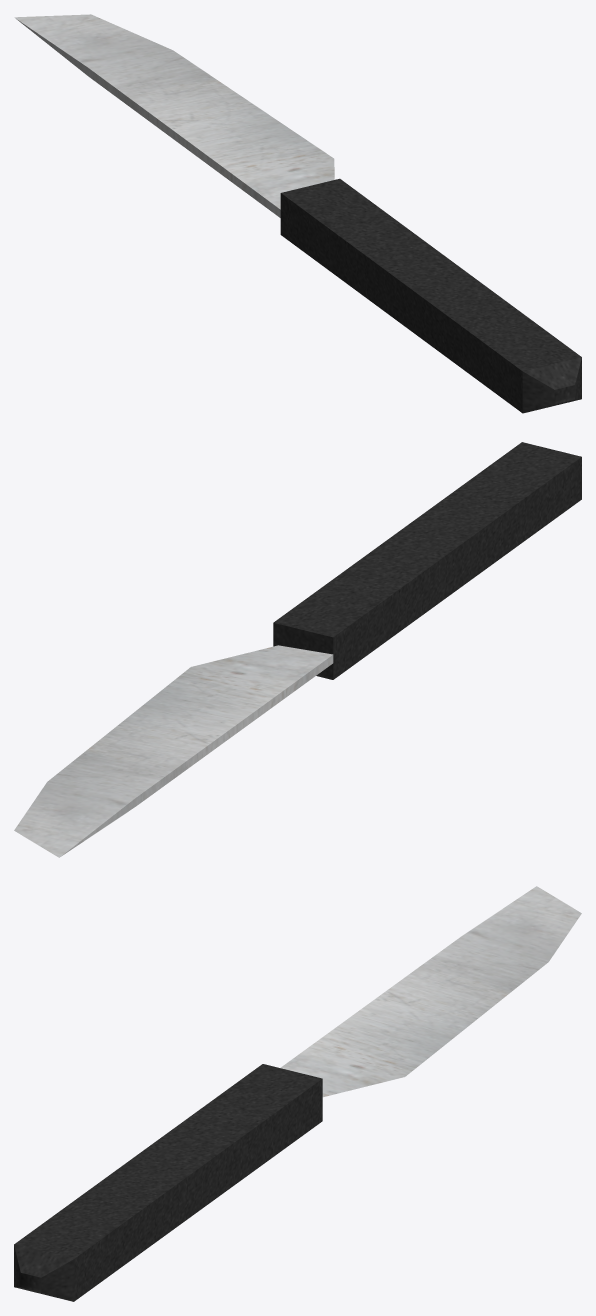
Rendered from M_Home_Garden_Bestek10.fbx.
The picture shows the model from 3 angles, top to bottom: view 1: azimuth 30°, elevation 25°; view 2: azimuth 150°, elevation 25°; view 3: azimuth 330°, elevation 25°; orthographic projection.
Visible parts, largest first — view 1: M_Home_Garden_Bestek10; view 2: M_Home_Garden_Bestek10; view 3: M_Home_Garden_Bestek10.
Boxes of the visible parts, x1,y1,x2,y2 form: M_Home_Garden_Bestek10: (14, 14, 581, 413); M_Home_Garden_Bestek10: (14, 442, 581, 857); M_Home_Garden_Bestek10: (14, 886, 581, 1301).
Bounding box in the file's own units: 3.18 × 1.3 × 29.39.
